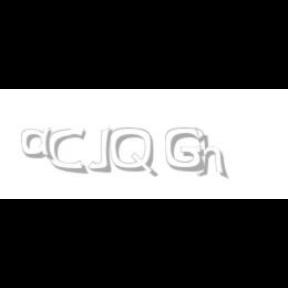C: (50, 128, 86, 174)
G: (165, 128, 205, 172)
J: (88, 128, 112, 172)
Q: (110, 128, 156, 178)
a: (22, 128, 58, 160)
h: (196, 128, 230, 180)
